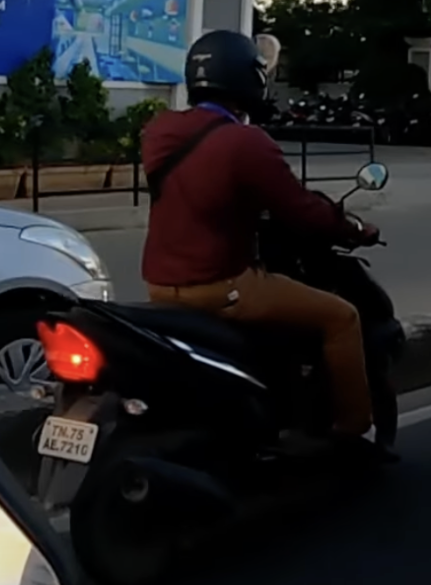motor: (21, 223, 426, 566)
number: (16, 401, 122, 467)
with helmet: (162, 10, 283, 122)
